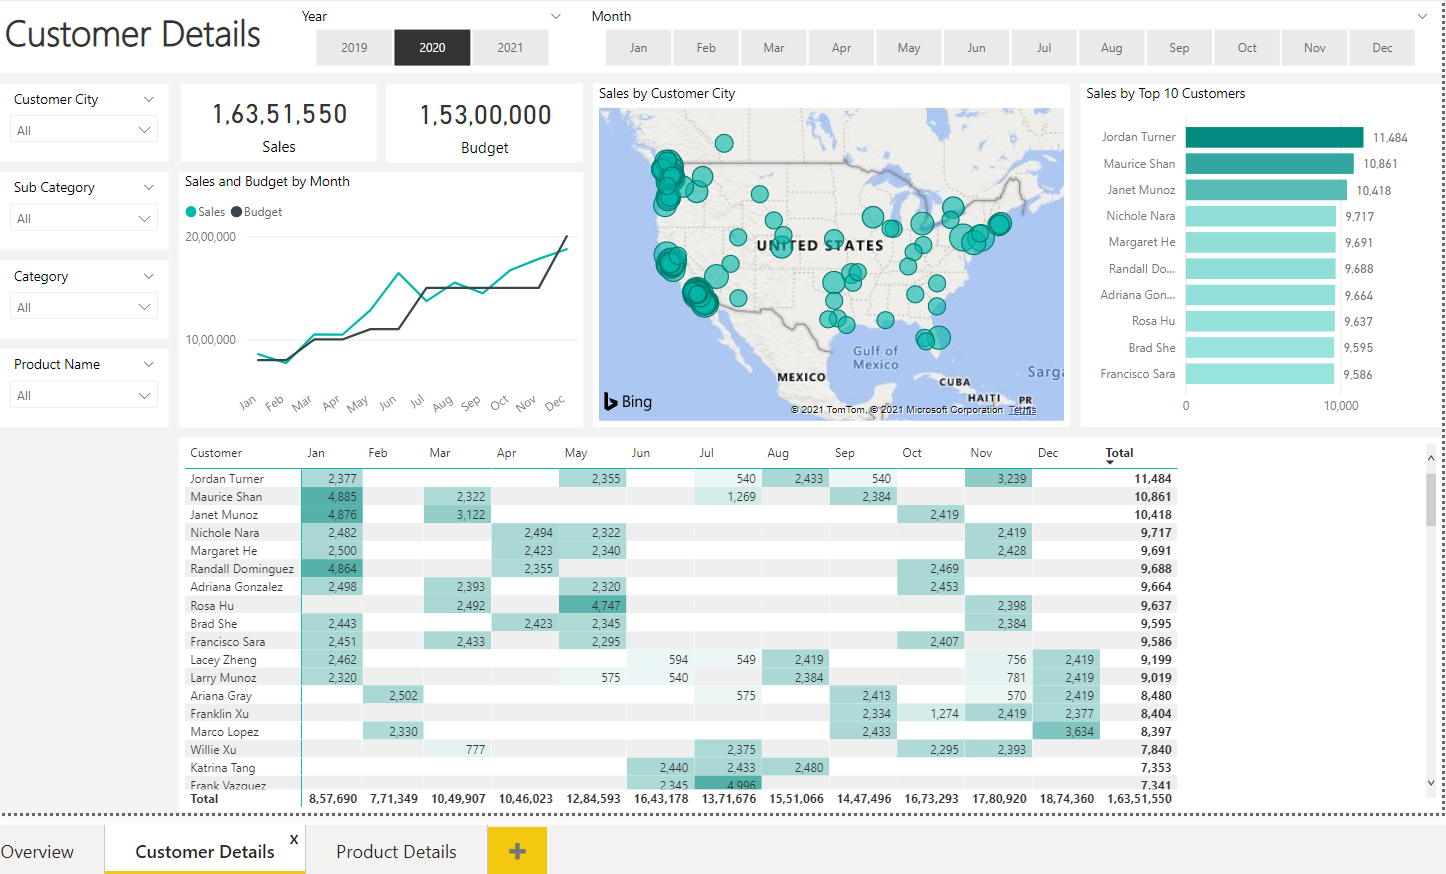

Layout of this report page (visuals, bound fields, positions):
{"tool":"powerbi","page":{"name":"Customer Details","canvas":[1280,720],"ordinal":1},"visuals":[{"type":"textbox","box":[0,0,1280,64],"z":0},{"type":"slicer","fields":{"Values":["DIM_Calendar.Year"]},"box":[256,0,256,64],"z":1000},{"type":"slicer","fields":{"Values":["DIM_Calendar.MonthShort"]},"box":[512,0,768,64],"z":2000},{"type":"slicer","fields":{"Values":["DIM_Customers.Customer City"]},"box":[0,73,150.5,69.3],"z":3000},{"type":"slicer","fields":{"Values":["DIM_Products.Product Category"]},"box":[0,229.9,150.5,69.3],"z":4000},{"type":"slicer","fields":{"Values":["DIM_Products.Product Name"]},"box":[0,308.4,150.5,69.3],"z":5000},{"type":"slicer","fields":{"Values":["DIM_Products.Sub Category"]},"box":[0,151.4,150.5,69.3],"z":6000},{"type":"lineChart","fields":{"Category":["DIM_Calendar.MonthShort"],"Y":["Analysis Metrics.Sales","Analysis Metrics.Budget"]},"box":[159.8,151.8,358.7,226.4],"z":7000},{"type":"card","fields":{"Values":["Analysis Metrics.Sales"]},"box":[160.7,72.8,174,69.2],"z":8000},{"type":"map","fields":{"Category":["DIM_Customers.Customer City"],"Size":["Analysis Metrics.Sales"]},"box":[527.3,72.8,423.5,304.5],"z":9000},{"type":"card","fields":{"Values":["Analysis Metrics.Budget"]},"box":[343.6,72.8,174.9,70.1],"z":10000},{"type":"pivotTable","fields":{"Rows":["DIM_Customers.Full Name"],"Columns":["DIM_Calendar.MonthShort"],"Values":["Analysis Metrics.Sales"]},"box":[159.8,387.1,1120.4,332.9],"z":11000},{"type":"barChart","title":"Sales by Top 10 Customers","fields":{"Category":["DIM_Customers.Full Name"],"Y":["Analysis Metrics.Sales"]},"box":[959.7,72.8,320.5,304.5],"z":12000}]}

Visuals, with their boxes on the page's 1280x720 design canvas (x1, y1, x2, y2). These are canvas units, not pixel positions in the 1446x874 screenshot, which may show the page scaled, cropped or inside an application window:
textbox: 0, 0, 1280, 64
slicer - DIM_Calendar.Year: 256, 0, 512, 64
slicer - DIM_Calendar.MonthShort: 512, 0, 1280, 64
slicer - DIM_Customers.Customer City: 0, 73, 150, 142
slicer - DIM_Products.Product Category: 0, 230, 150, 299
slicer - DIM_Products.Product Name: 0, 308, 150, 378
slicer - DIM_Products.Sub Category: 0, 151, 150, 221
lineChart - DIM_Calendar.MonthShort x Analysis Metrics.Sales: 160, 152, 518, 378
card - Analysis Metrics.Sales: 161, 73, 335, 142
map - DIM_Customers.Customer City x Analysis Metrics.Sales: 527, 73, 951, 377
card - Analysis Metrics.Budget: 344, 73, 518, 143
pivotTable - DIM_Customers.Full Name x DIM_Calendar.MonthShort: 160, 387, 1280, 720
"Sales by Top 10 Customers" barChart: 960, 73, 1280, 377
